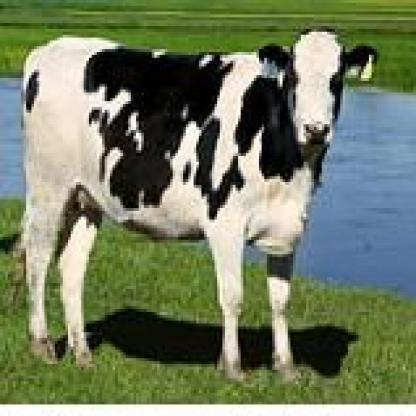cow: (22, 27, 378, 386)
